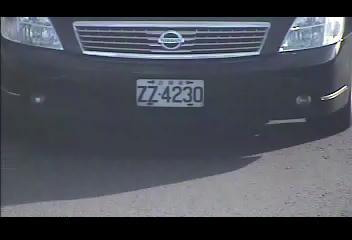plate: (134, 77, 206, 109)
